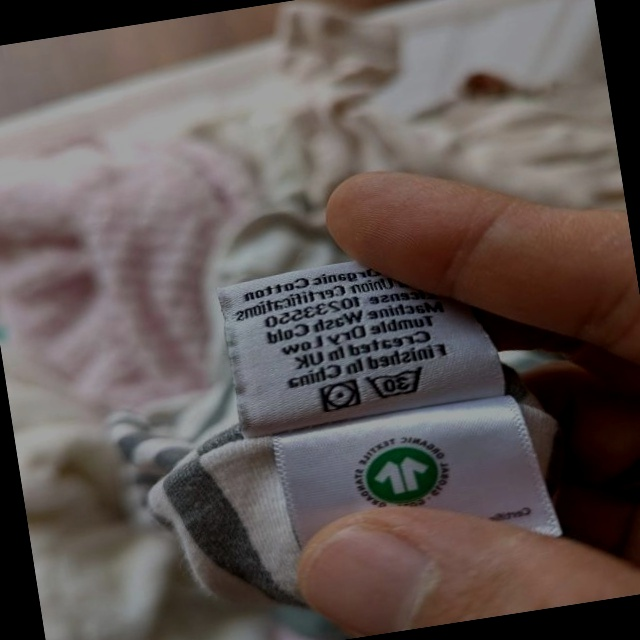30C: (362, 361, 432, 405)
tumble_dry_low: (315, 376, 364, 417)
